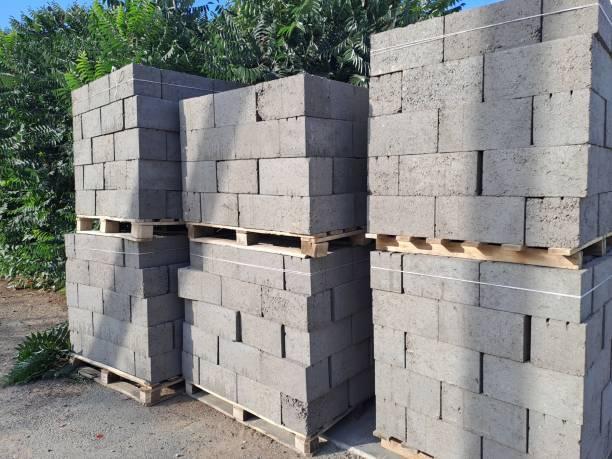Bricks: (483, 34, 592, 101), (479, 264, 592, 323), (483, 357, 584, 423), (441, 385, 526, 451), (482, 145, 588, 197), (436, 96, 532, 152), (530, 305, 604, 377), (439, 301, 523, 364), (221, 339, 307, 397), (238, 195, 354, 237), (407, 334, 483, 397), (401, 54, 483, 112), (531, 88, 606, 148), (433, 198, 524, 246), (370, 17, 444, 75), (189, 243, 283, 287), (402, 255, 478, 307), (526, 194, 597, 249), (405, 410, 483, 458), (398, 150, 478, 196), (376, 363, 440, 419), (94, 312, 172, 356), (284, 317, 351, 368), (368, 109, 438, 157), (373, 291, 438, 339), (260, 155, 332, 197), (368, 194, 434, 239), (263, 289, 331, 332), (526, 409, 582, 457), (444, 14, 539, 40), (256, 73, 304, 120), (278, 116, 332, 157), (184, 299, 236, 341), (95, 189, 165, 220), (179, 125, 234, 161), (240, 312, 282, 359), (310, 384, 351, 431), (213, 85, 256, 127), (117, 264, 170, 298), (542, 2, 595, 35), (234, 120, 278, 159), (199, 359, 237, 404), (75, 233, 125, 267), (332, 343, 374, 383), (216, 157, 259, 194), (161, 68, 212, 99), (368, 71, 402, 117), (116, 129, 165, 160), (221, 280, 262, 317), (585, 343, 611, 400), (87, 336, 130, 370), (376, 398, 409, 442), (201, 192, 239, 228), (314, 254, 352, 290), (374, 329, 405, 372), (179, 272, 222, 303), (178, 94, 215, 130), (184, 324, 217, 364), (370, 253, 402, 294), (135, 236, 186, 261), (587, 147, 611, 200), (138, 162, 184, 189), (305, 74, 331, 119), (368, 157, 398, 196), (285, 259, 314, 299), (182, 160, 216, 193), (101, 289, 132, 323), (583, 399, 603, 451), (306, 363, 336, 396), (335, 286, 370, 314), (283, 396, 307, 434), (348, 376, 376, 408), (595, 42, 610, 96), (101, 99, 124, 134), (135, 66, 160, 98), (90, 134, 116, 164), (89, 261, 115, 291), (106, 164, 139, 187), (79, 285, 102, 313), (153, 357, 181, 379), (182, 192, 201, 223), (83, 162, 104, 190), (596, 265, 612, 301), (113, 73, 136, 98), (68, 311, 90, 337), (89, 79, 111, 103), (74, 190, 96, 213), (66, 262, 88, 285), (598, 3, 612, 39), (82, 115, 105, 134), (71, 89, 90, 109), (135, 353, 150, 378), (126, 242, 138, 273), (74, 143, 92, 161), (65, 286, 81, 305), (72, 336, 86, 357), (64, 234, 75, 256), (72, 117, 82, 140), (75, 168, 82, 189)
